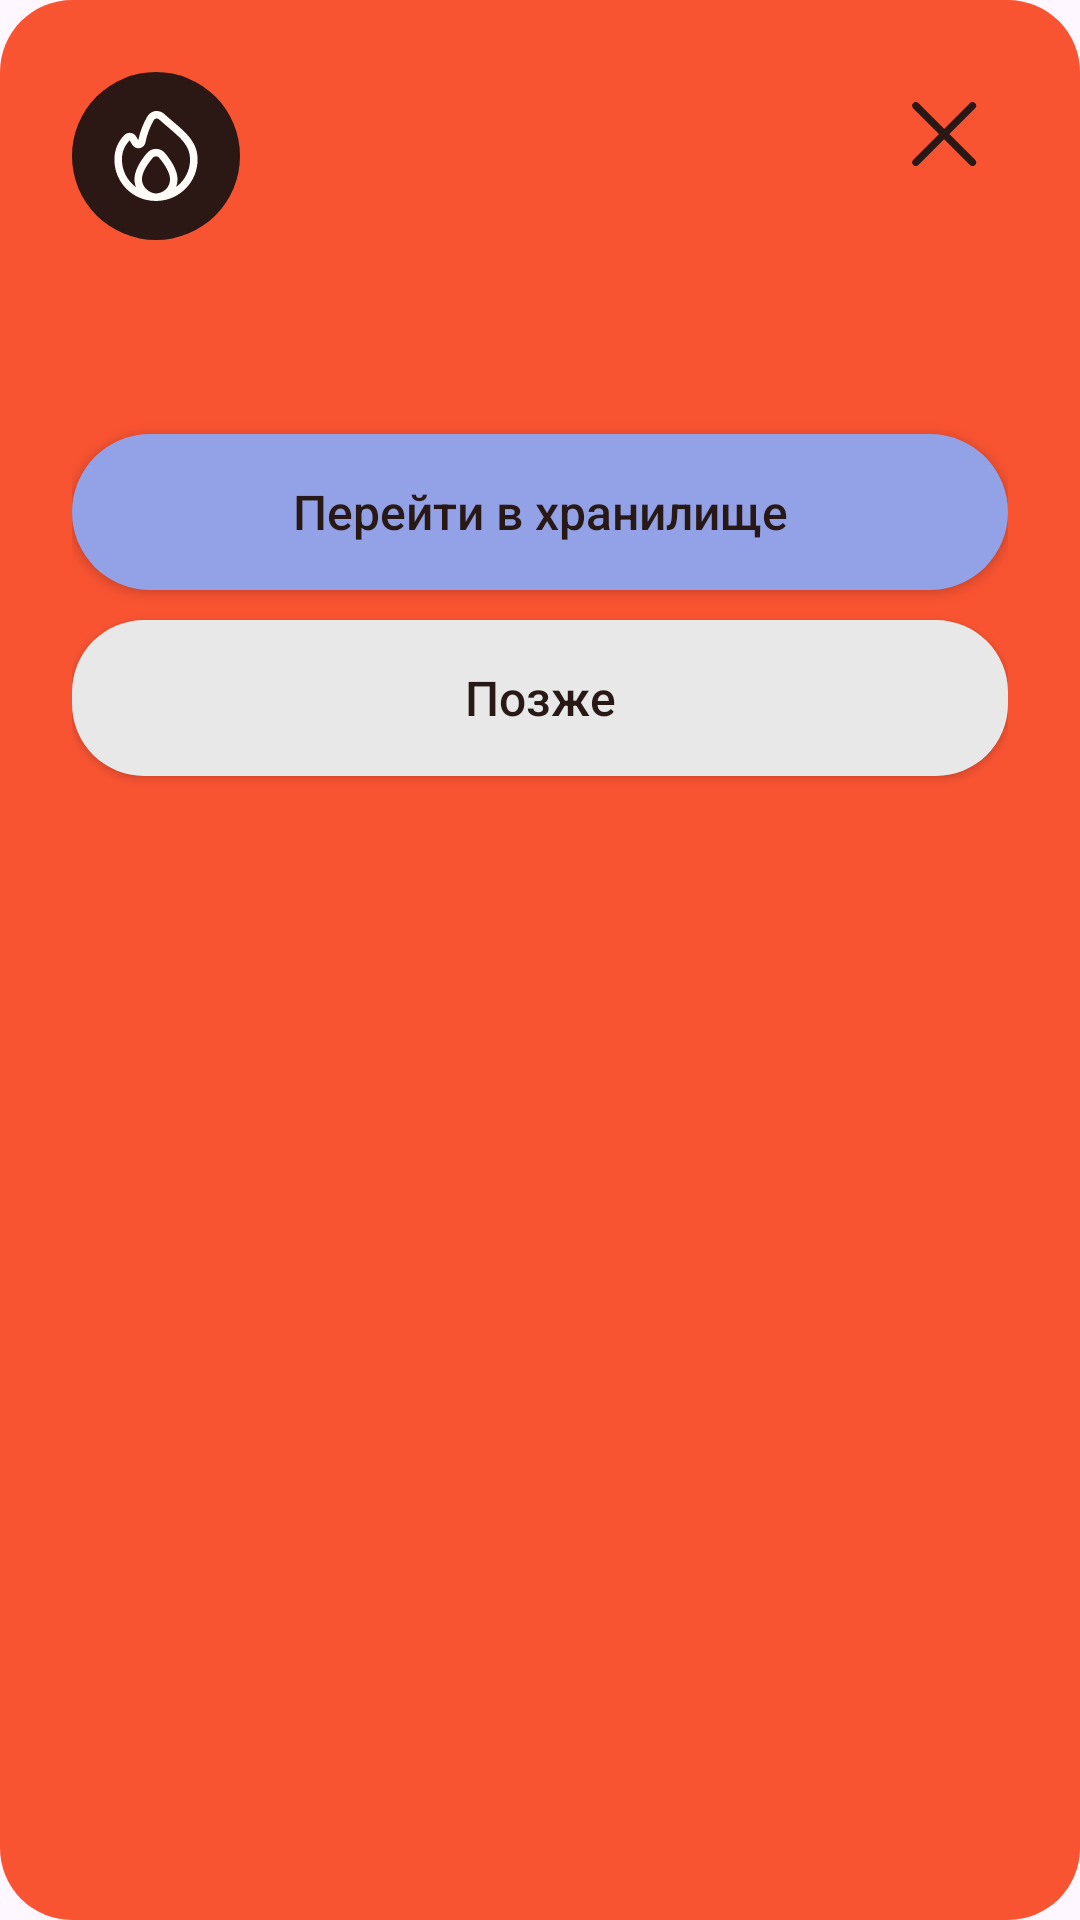

Icon bounding boxes for this 1080px x 1920px phone screenshot, format (x1, y1, x2, y2):
close: (912, 102, 977, 166)
